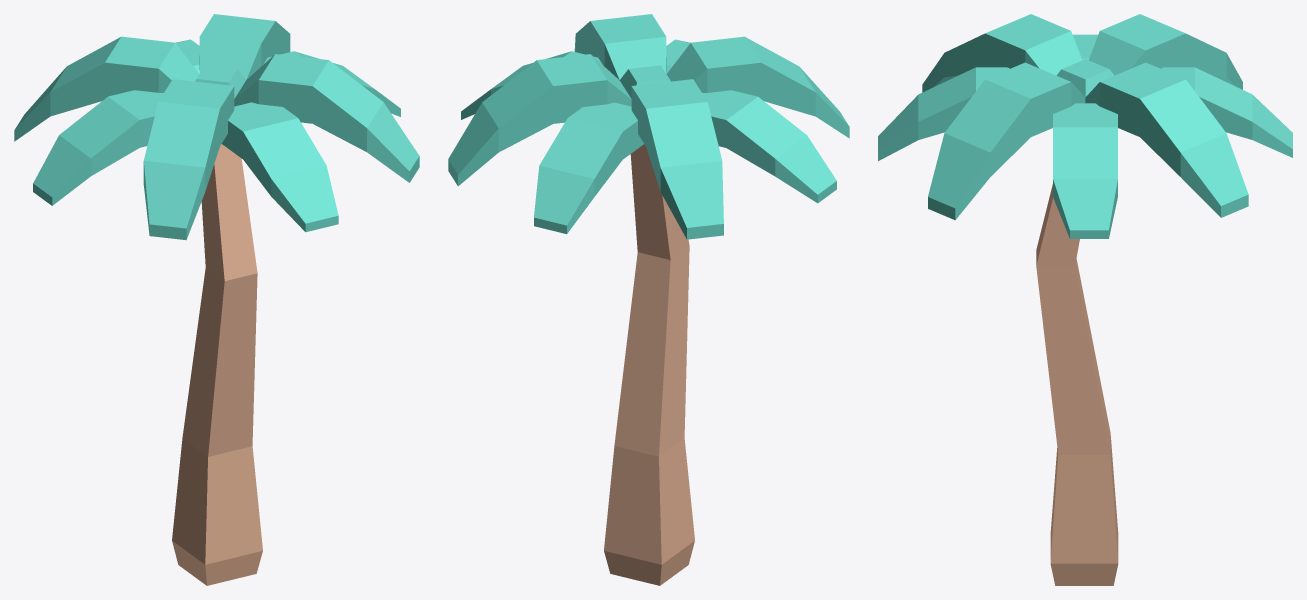
File: tree_palmDetailedTall.gltf
3 renders of one model, left to right at view 1: azimuth 30°, elevation 25°; view 2: azimuth 150°, elevation 25°; view 3: azimuth 270°, elevation 25°, orthographic.
Visible parts, largest first — view 1: leafs (×2), tree_palmDetailedTall; view 2: leafs (×2), tree_palmDetailedTall; view 3: leafs (×2), tree_palmDetailedTall.
Part boxes in pixels (x1=…): leafs (×2): x1=14, y1=14, x2=419, y2=240; tree_palmDetailedTall: x1=172, y1=144, x2=262, y2=585; leafs (×2): x1=448, y1=14, x2=849, y2=239; tree_palmDetailedTall: x1=604, y1=144, x2=694, y2=585; leafs (×2): x1=878, y1=14, x2=1292, y2=238; tree_palmDetailedTall: x1=1036, y1=184, x2=1118, y2=585.
Size of the model in its own units: 1.03 by 1.42 by 1.03.
